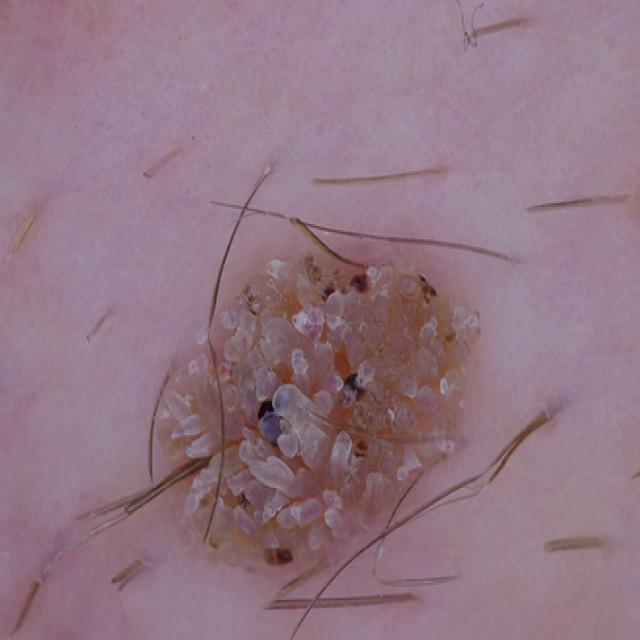Keratosis: (137, 203, 492, 628)
